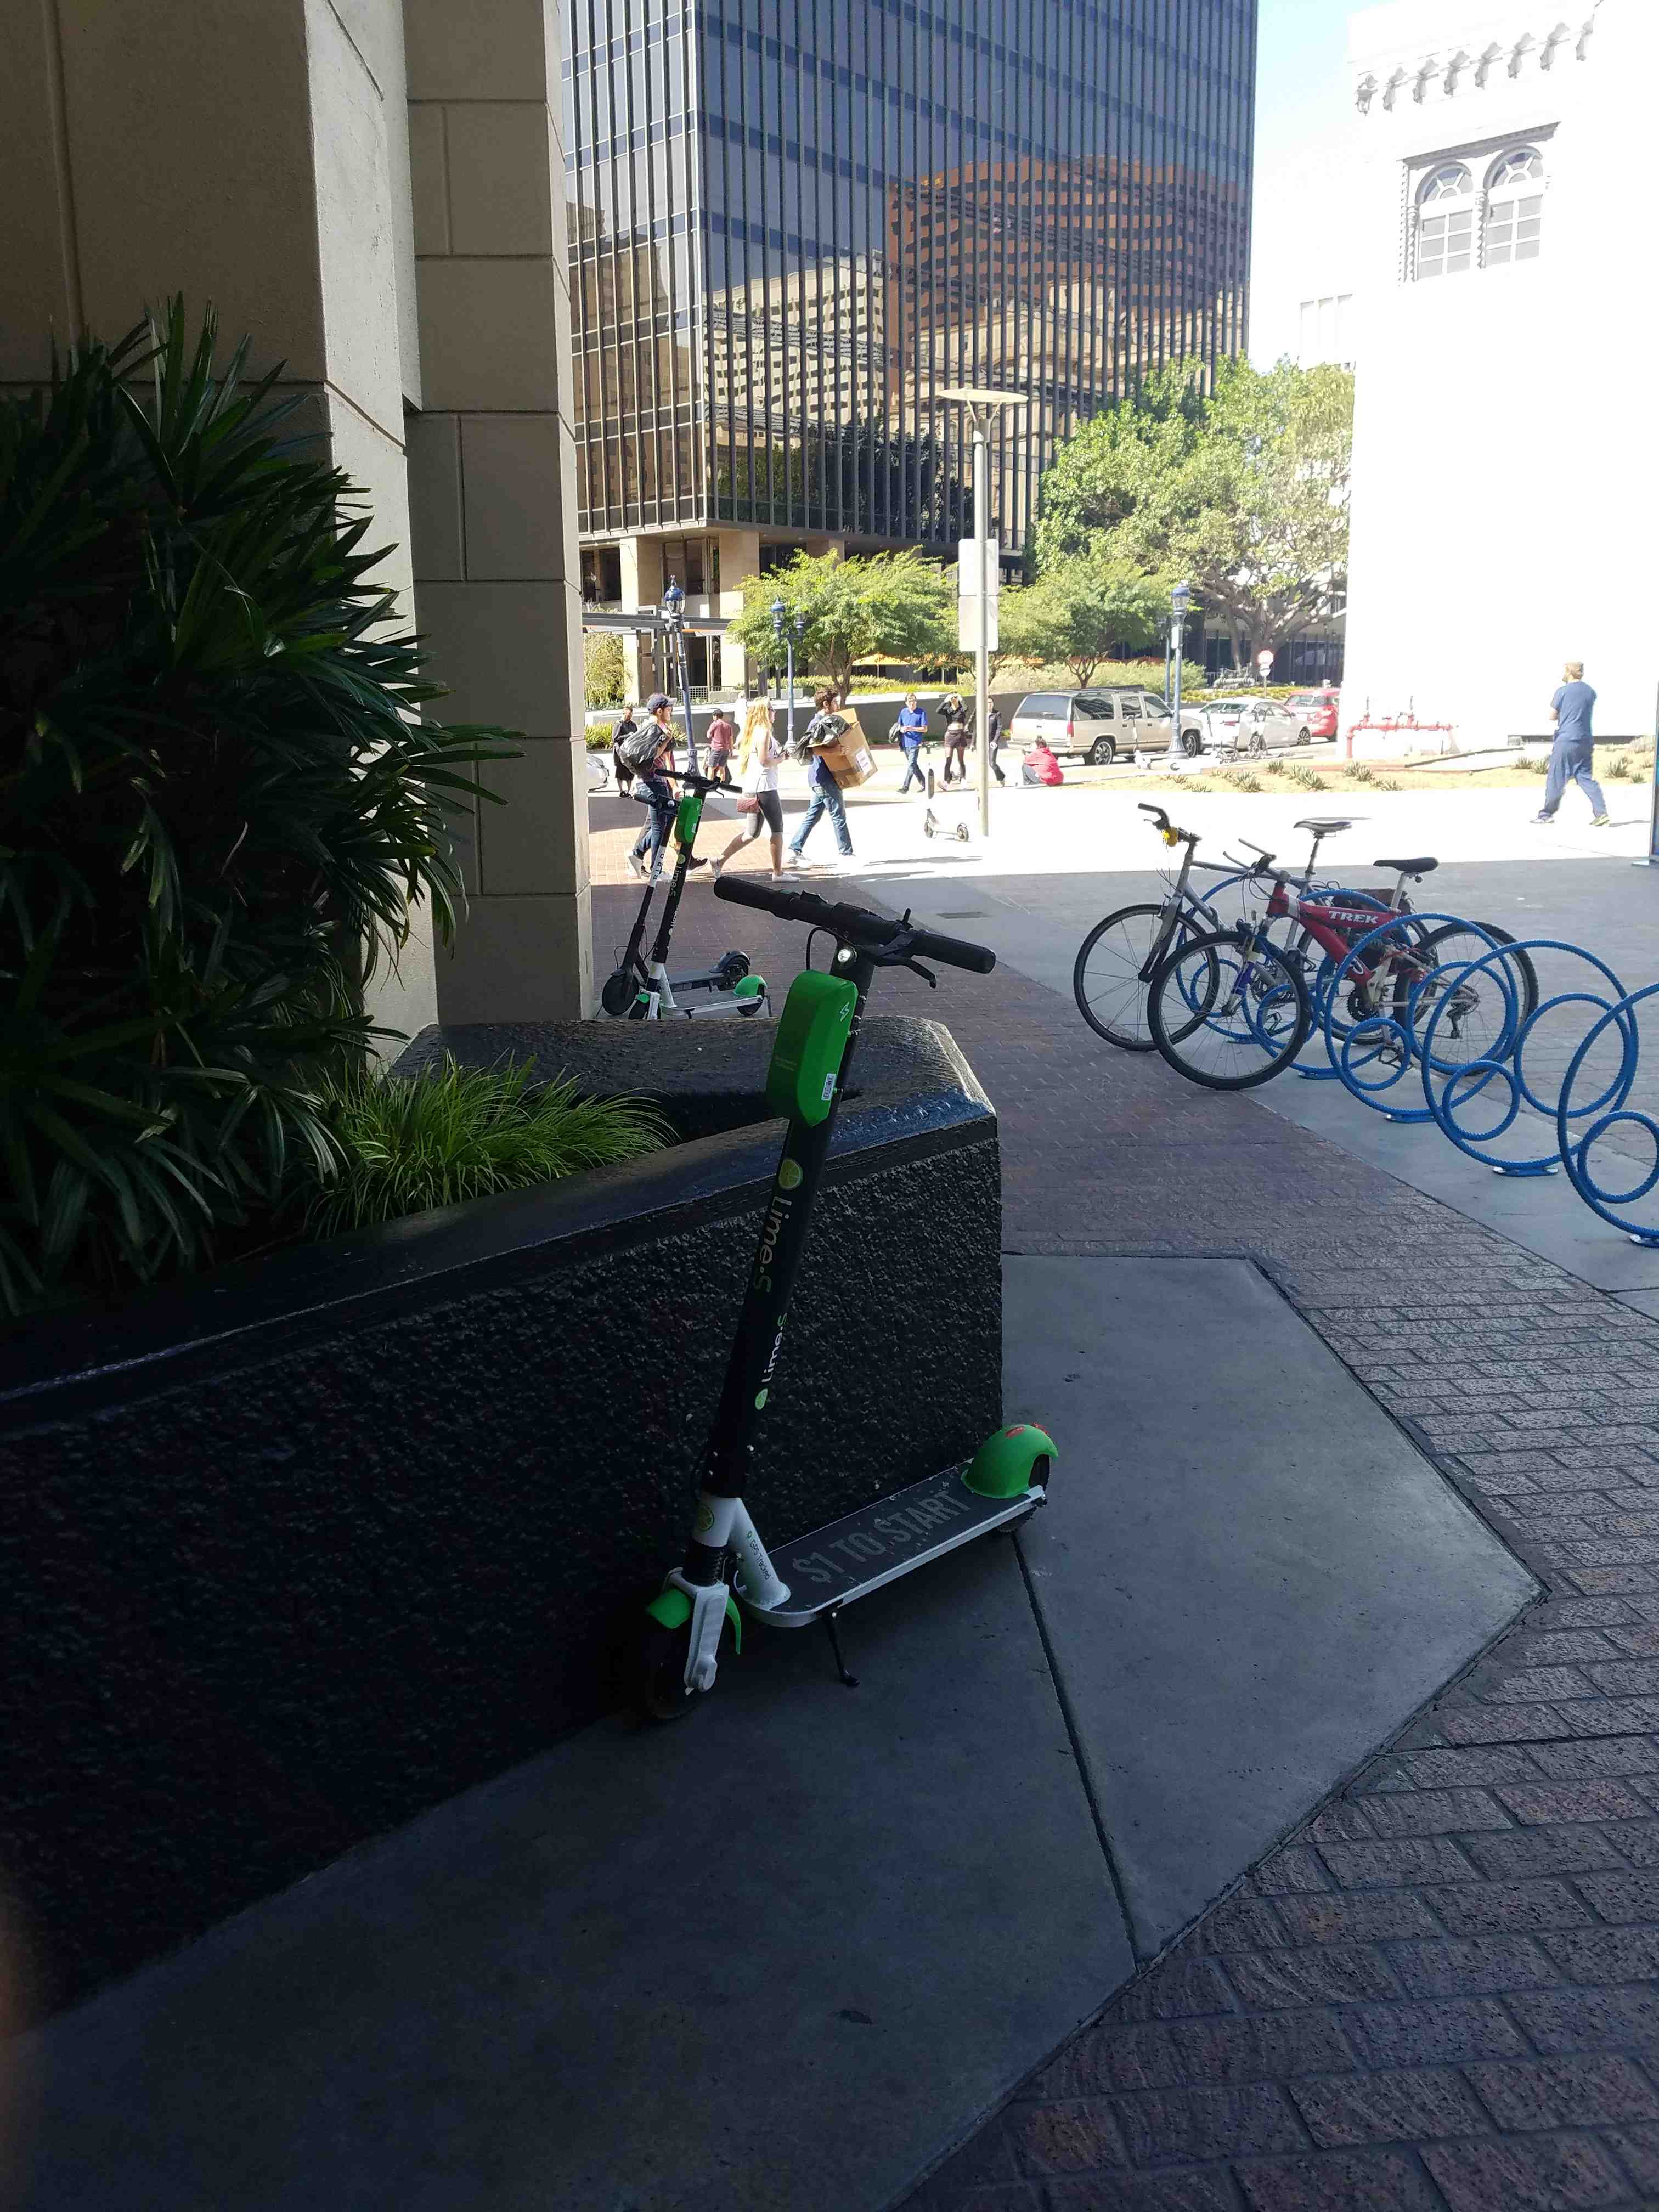scooter: (631, 806, 1039, 1733)
